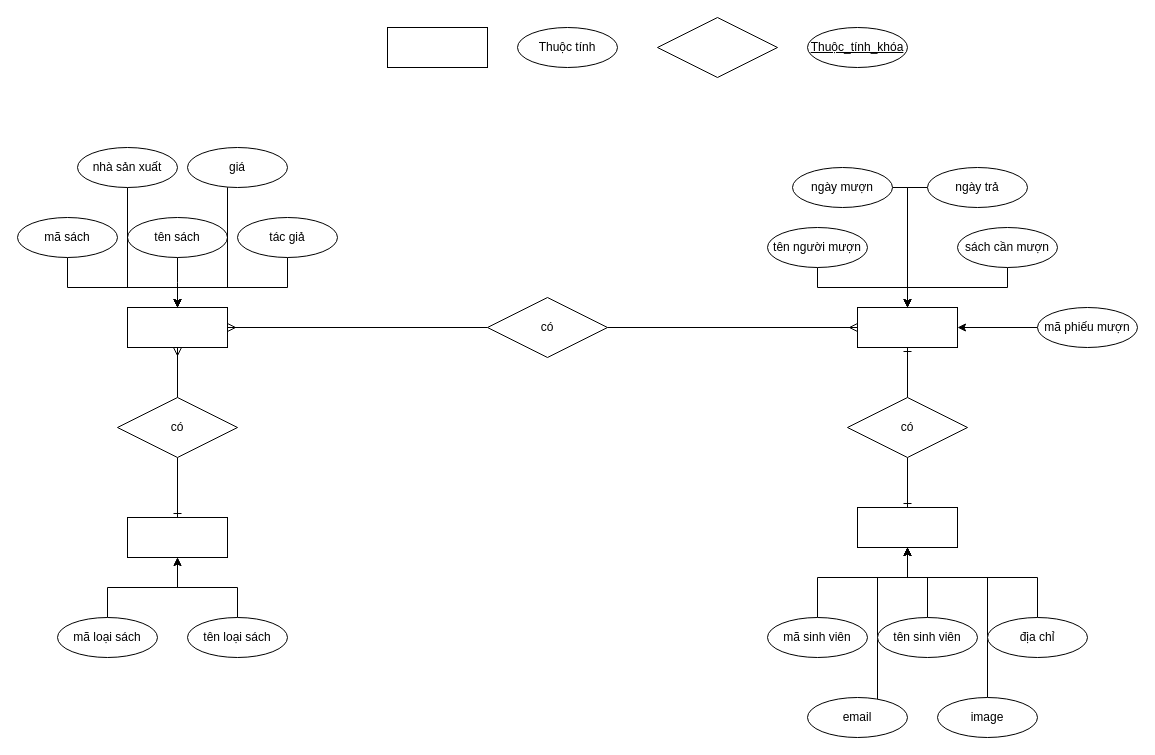
Image size: 1155x755. Some labels were removed from this diagram. The shapes that lost their labels are listed below. From the top down, each one's centre as x and y in pixels, then its label:
the point at 437,47: Thực thể
the point at 717,47: quan hệ
the point at 177,327: sách
the point at 907,327: phiếu mượn
the point at 177,537: loại sách
the point at 907,527: sinh viên
